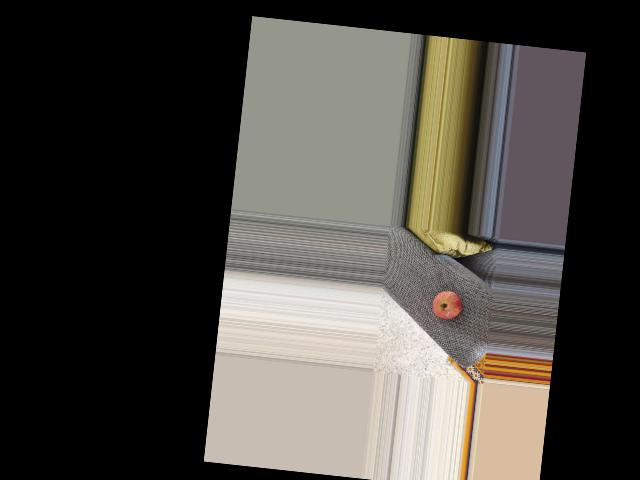apple: (432, 285, 467, 322)
